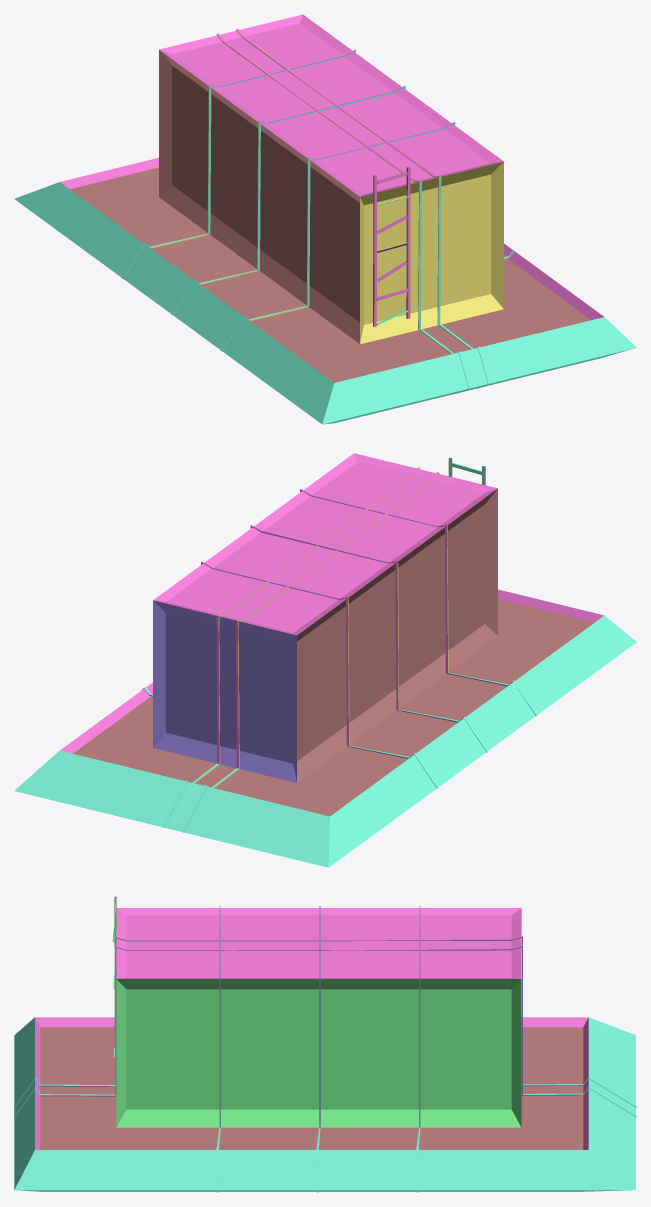
File: hero.FBX
3 views of the same model, one above another, from view 1: azimuth 30°, elevation 25°; view 2: azimuth 150°, elevation 25°; view 3: azimuth 270°, elevation 25° (orthographic).
Parts seen in each view (by area): view 1: conteneur, plateforme_vehicule, CablesSecu, echelle; view 2: conteneur, plateforme_vehicule, CablesSecu; view 3: conteneur, plateforme_vehicule, CablesSecu.
Boxes of the visible parts, box(x1,y1,x2,y2) form: conteneur: box(159, 14, 503, 344); plateforme_vehicule: box(14, 158, 636, 424); CablesSecu: box(121, 28, 514, 393); echelle: box(373, 166, 410, 326); conteneur: box(153, 453, 497, 782); plateforme_vehicule: box(14, 589, 636, 867); CablesSecu: box(141, 467, 537, 832); conteneur: box(116, 908, 521, 1127); plateforme_vehicule: box(14, 1017, 635, 1191); CablesSecu: box(14, 906, 636, 1192).
Size of the model in its own units: 656 by 400 by 1109.
